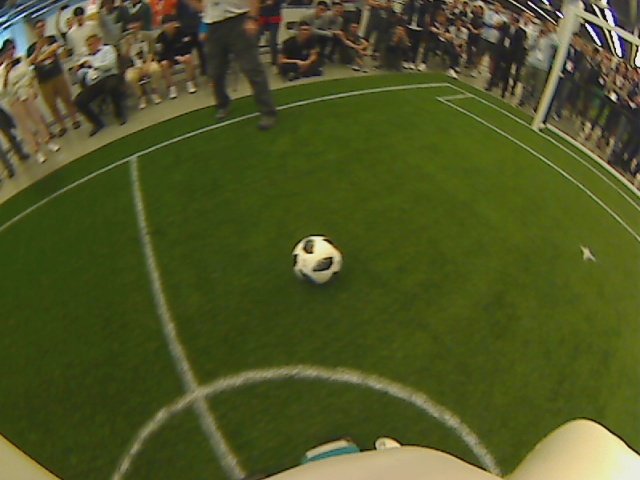ball: (290, 234, 344, 285)
